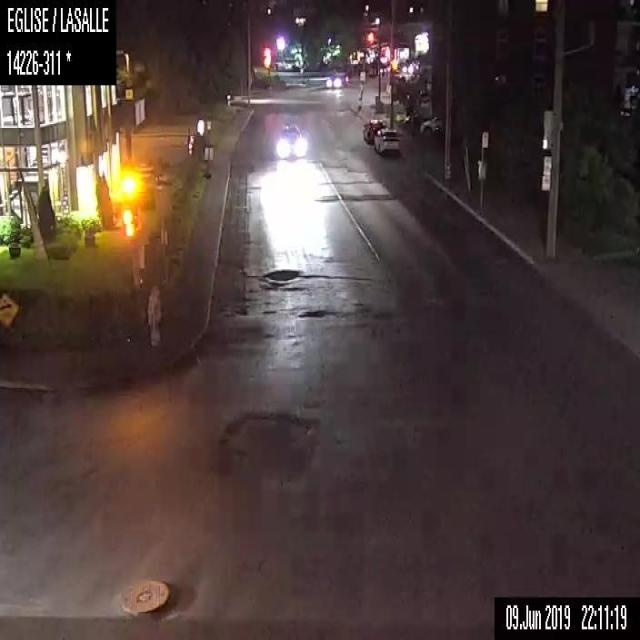pedestrian: (143, 281, 164, 348)
vehicle: (277, 120, 301, 153), (373, 126, 400, 154), (360, 117, 384, 144), (419, 114, 444, 138), (324, 69, 346, 87), (400, 59, 418, 76)
